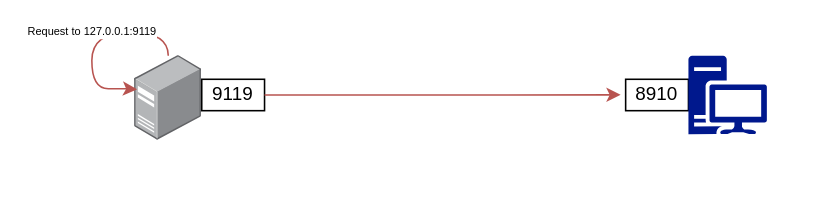
The diagram is 816 pixels wide and 201 high, and some of its shapes have lost their labels. The shapes that lost their labels are listed below. From the top down, each one's box as (x1, y1, x2, y2) in pixels, then its label:
(134, 55, 201, 140): Remote host
(688, 55, 766, 133): Target host = localhost
